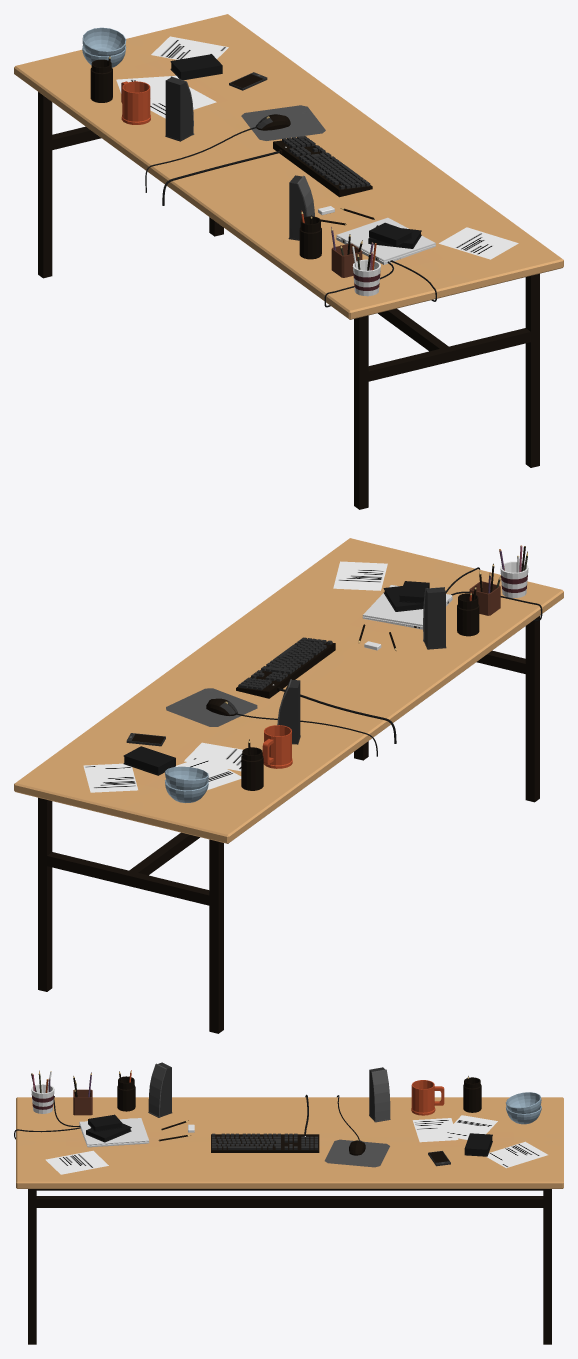
The model's file is Desk 5.fbx.
3 renders of one model, top to bottom at view 1: azimuth 30°, elevation 25°; view 2: azimuth 150°, elevation 25°; view 3: azimuth 270°, elevation 25°, orthographic. The views are drawn at different scales.
Parts seen in each view (by area): view 1: Desk; view 2: Desk; view 3: Desk.
Boxes of the visible parts, x1,y1,x2,y2 form: Desk: (14, 14, 563, 509); Desk: (14, 538, 563, 1033); Desk: (14, 1062, 563, 1344).
Bounding box in the file's own units: 151 × 171 × 394.
